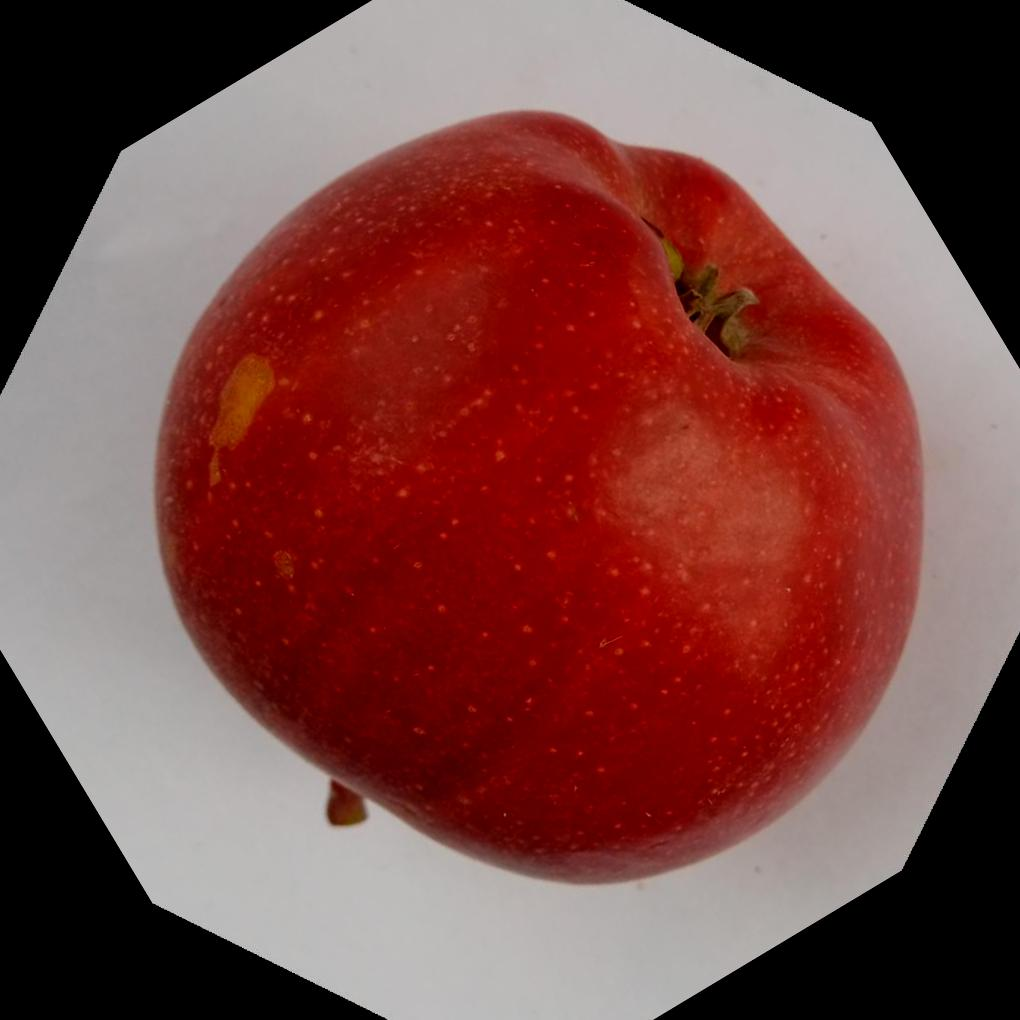FreshGuava: (147, 100, 926, 885)
